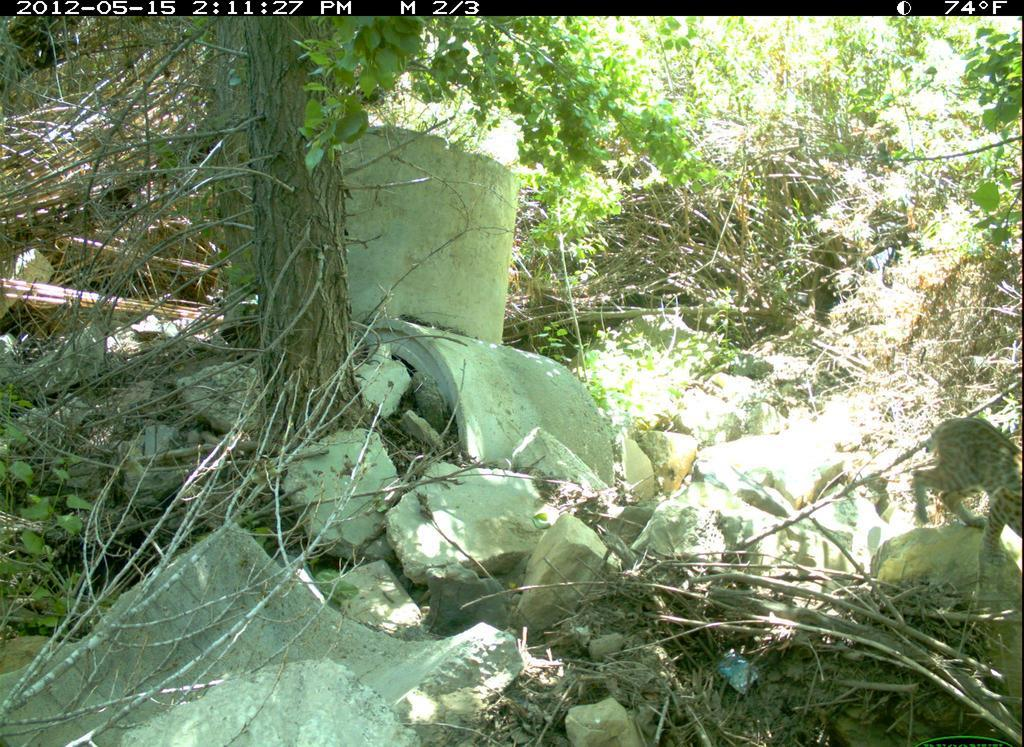bobcat: (905, 401, 1023, 585)
